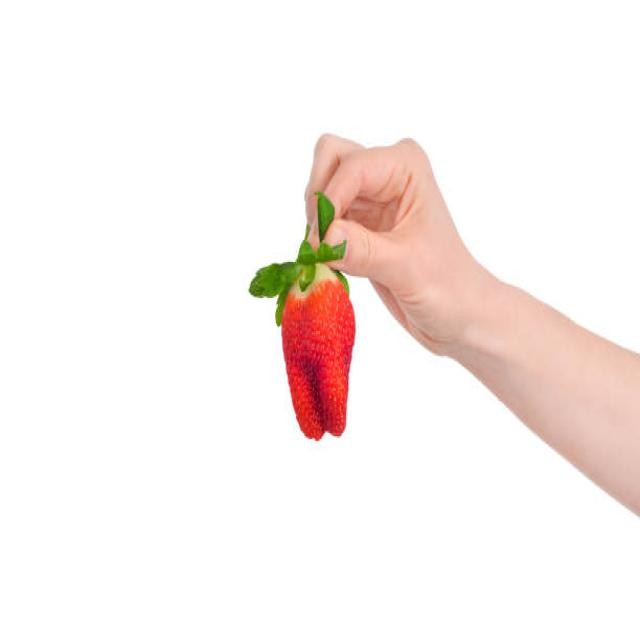Healthy Fruit: (281, 263, 355, 442)
